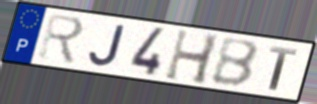4: (128, 25, 166, 78)
B: (209, 37, 261, 89)
H: (162, 27, 222, 87)
J: (87, 23, 128, 68)
R: (36, 12, 86, 67)
T: (268, 44, 299, 92)
